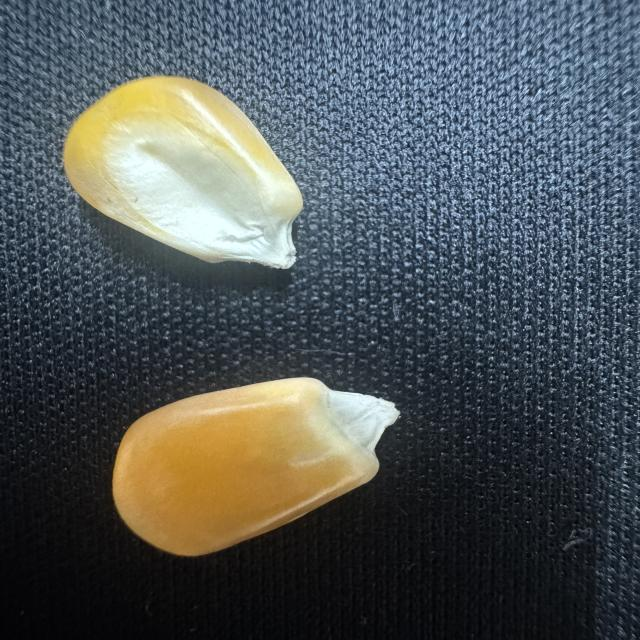Good-Seed: (98, 373, 411, 555), (53, 70, 314, 282)
